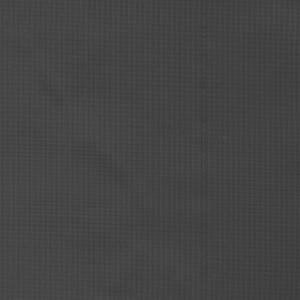Wrinkle: (1, 18, 189, 300)
